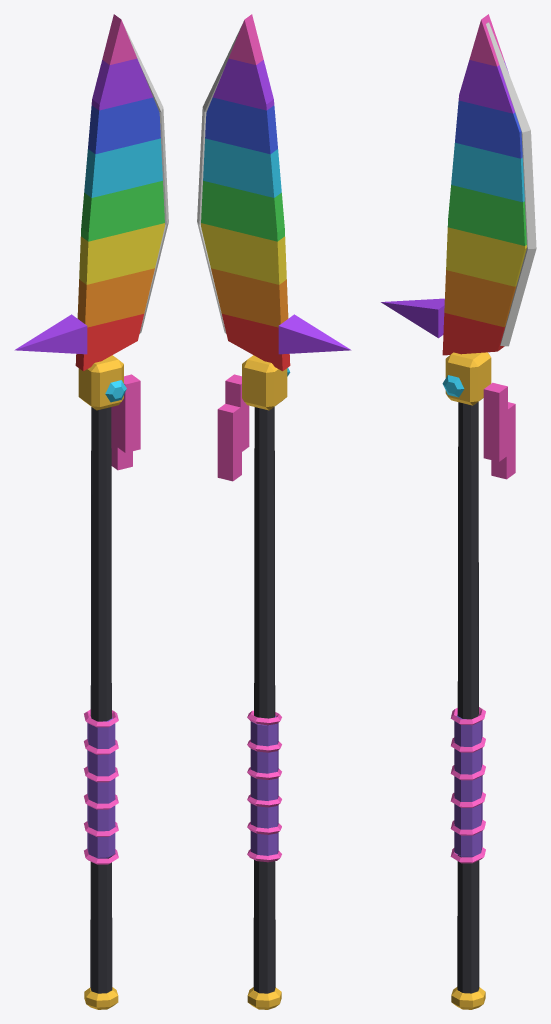
Rendered from RainbowGlaive.fbx.
The picture shows the model from 3 angles, left to right: view 1: azimuth 30°, elevation 25°; view 2: azimuth 150°, elevation 25°; view 3: azimuth 330°, elevation 25°; orthographic projection.
Parts seen in each view (by area): view 1: RainbowGlaive; view 2: RainbowGlaive; view 3: RainbowGlaive.
Boxes of the visible parts, box(x1,y1,x2,y2) form: RainbowGlaive: box(14, 14, 168, 1009); RainbowGlaive: box(197, 14, 351, 1009); RainbowGlaive: box(381, 14, 536, 1009).
Size of the model in its own units: 1.42 by 8.62 by 0.46.
Materials: 1 (1 with a texture image).
